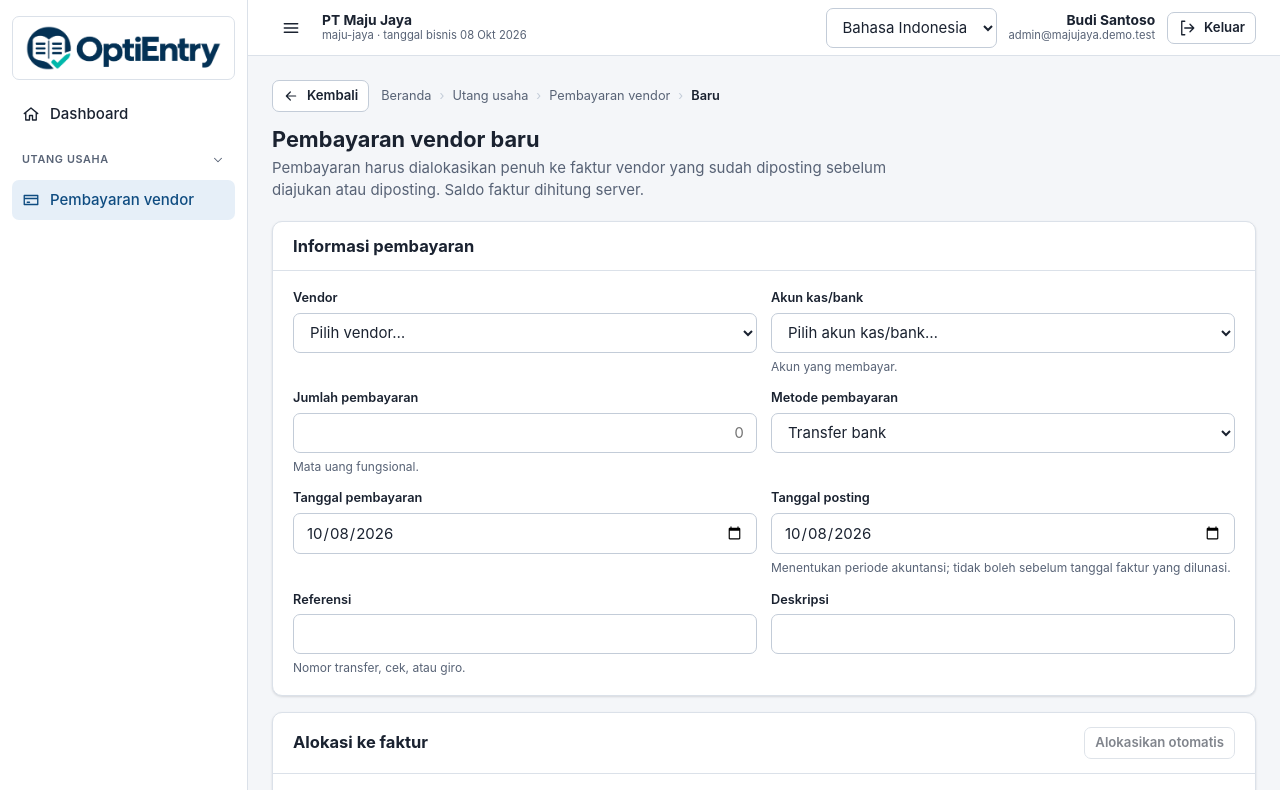
Test case: vendor payment editor › fills the allocations from the server suggestion verbatim, never from its own arithmetic
Expected: the heading "Pembayaran vendor baru" is shown, [272,126,539,152]
Select "V1 · PT Sumber Makmur" in the dropdown labelled "Vendor". click: (525, 333)
box: [293,313,757,353]
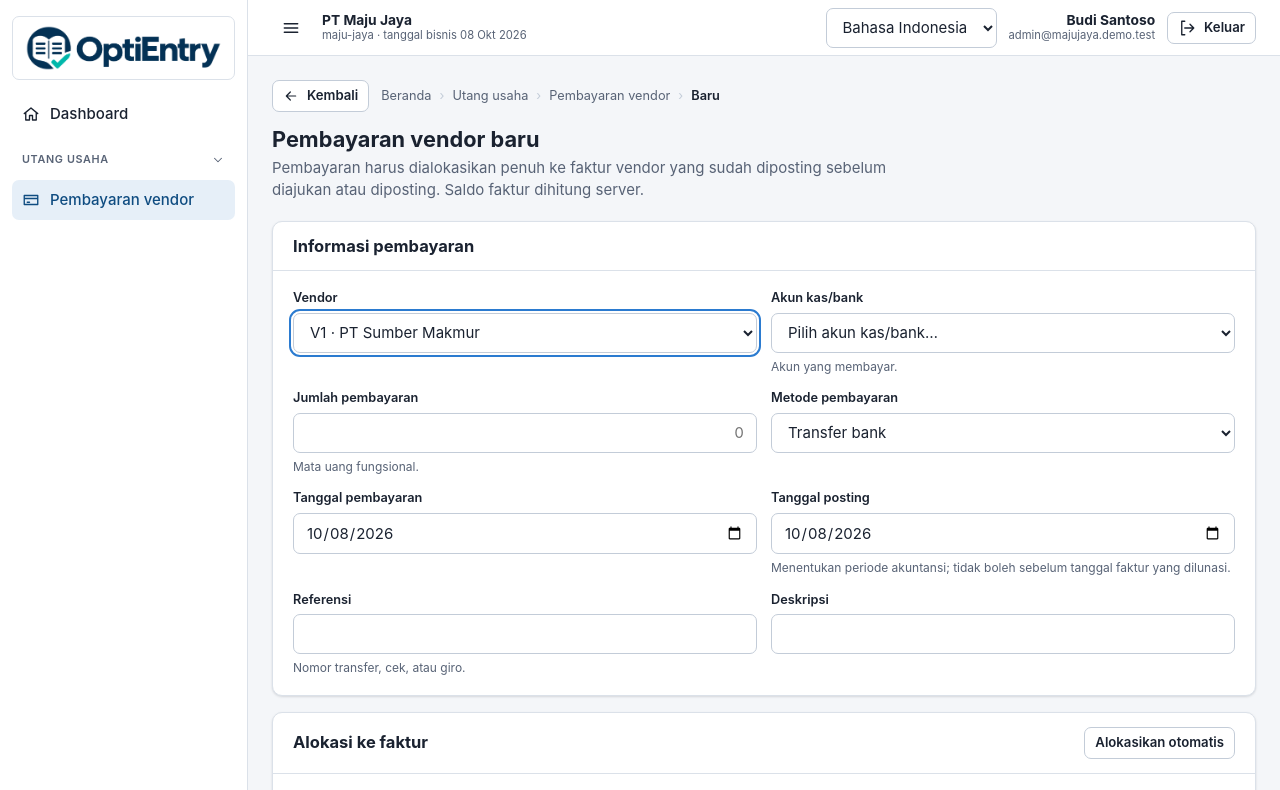
Note: Without a vendor amount there is nothing to propose: the user is told, and no request is made.
Click the button "Alokasikan otomatis". click: (1160, 743)
box: [1084,727,1235,759]
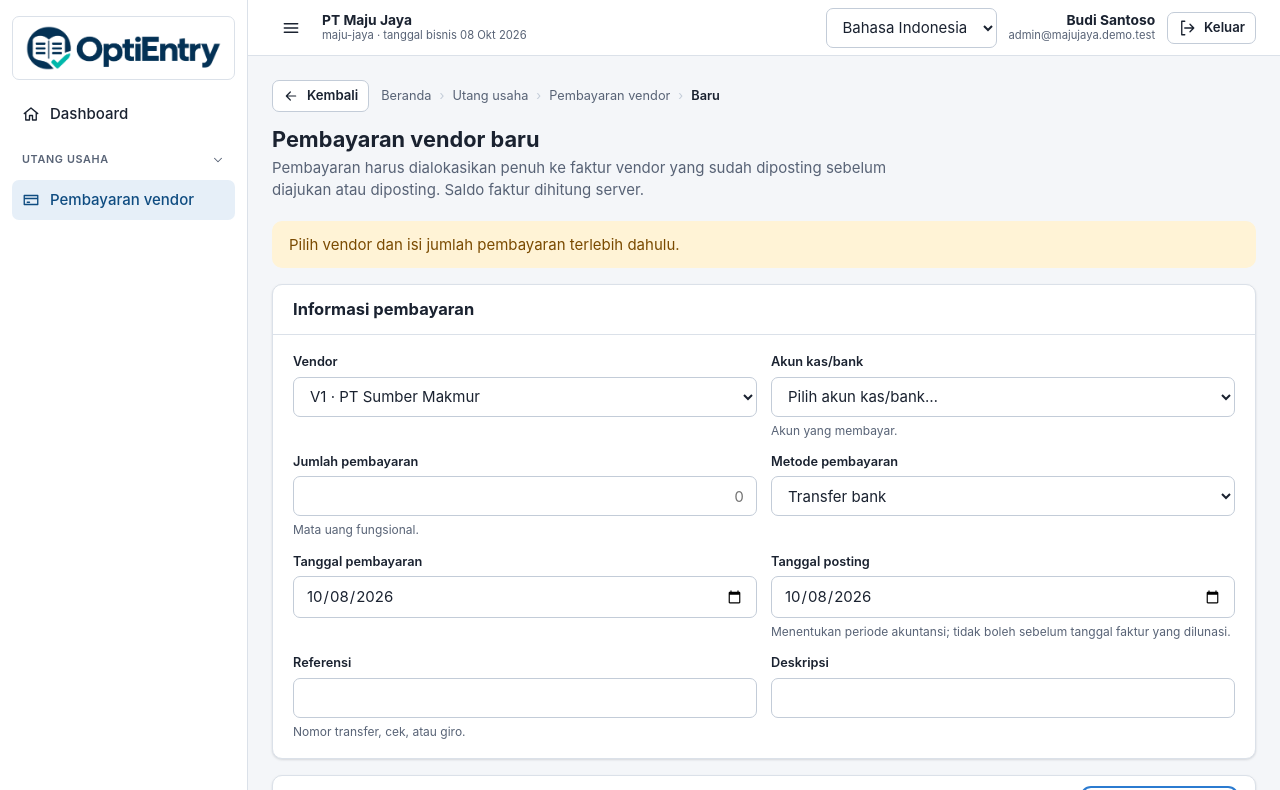
Result: the text "Pilih vendor dan isi jumlah pembayaran terlebih dahulu." is shown at [289,234,680,256]
Type "800000" into the field labelled "Jumlah pembayaran". click: (525, 496)
box: [293,476,757,516]
(page scrolled)
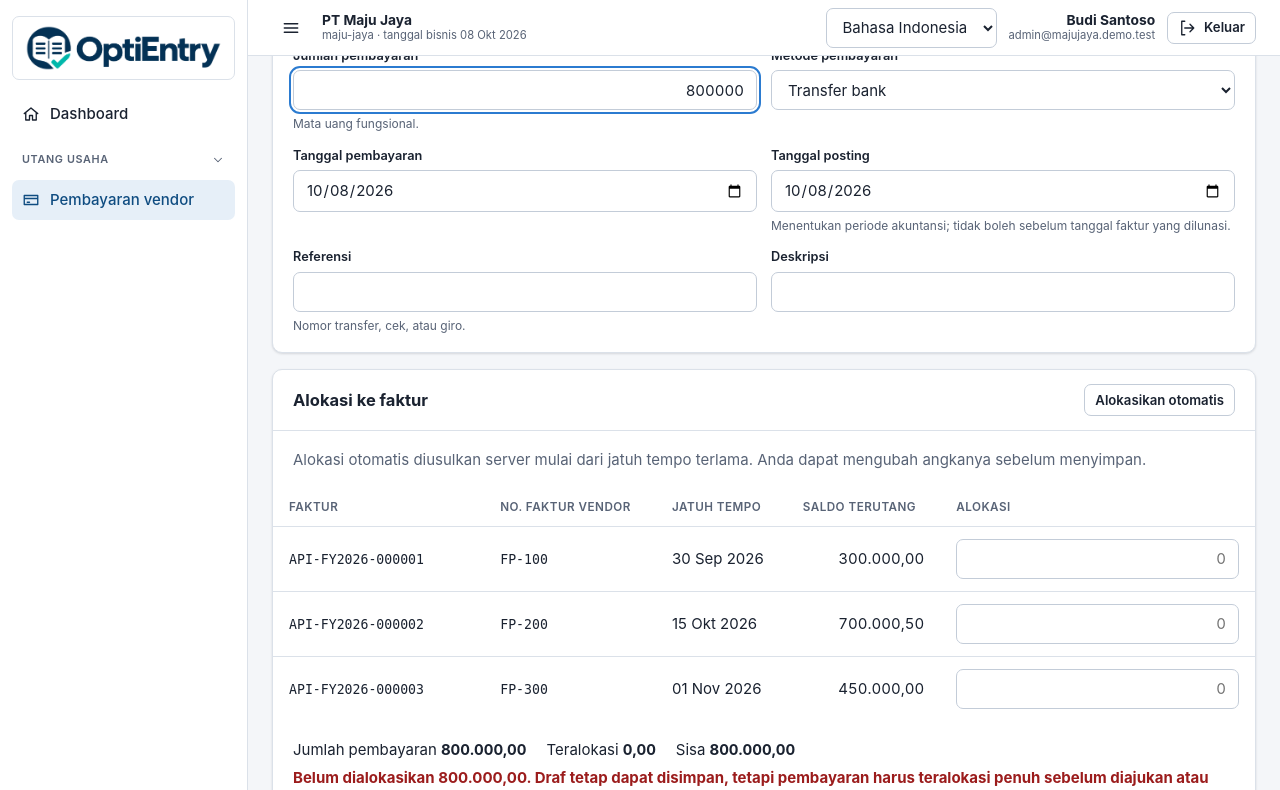
Click the button "Alokasikan otomatis". click: (1160, 400)
box: [1084,384,1235,416]
(page scrolled)
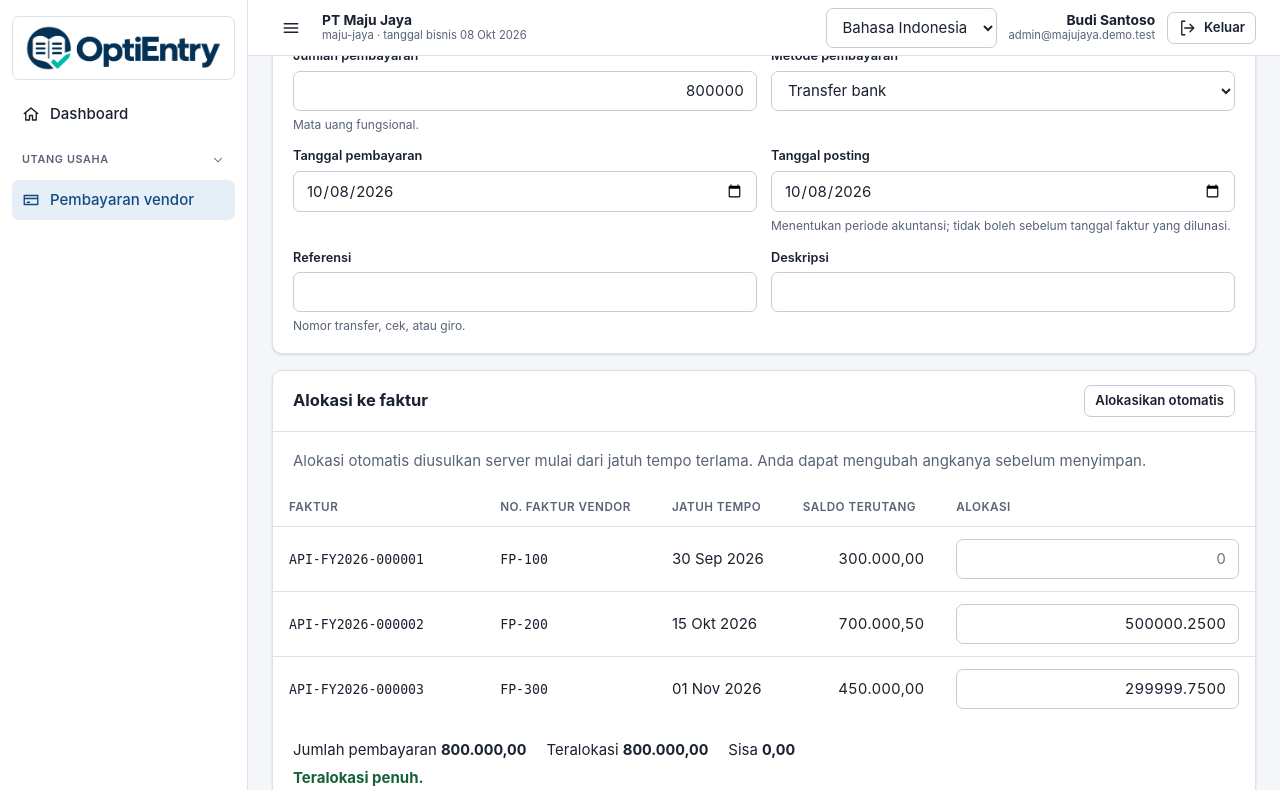
Result: the field named "Alokasi API-FY2026-000001" is empty at [956,539,1239,579]
Result: the 1st text "800.000,00" is shown at [441,740,526,759]
Result: the 2nd text "800.000,00" is shown at [623,740,708,759]
